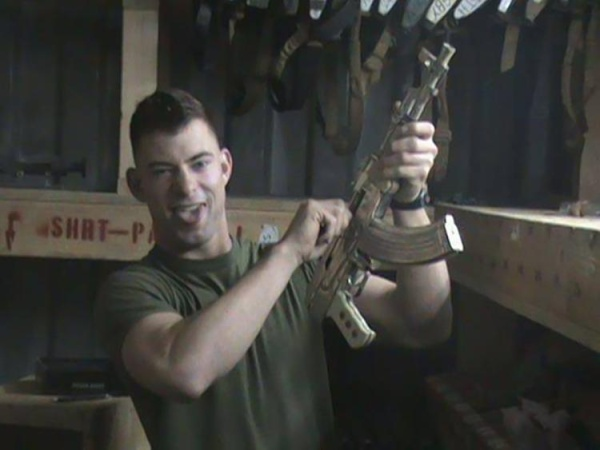ak47: (290, 45, 462, 346)
